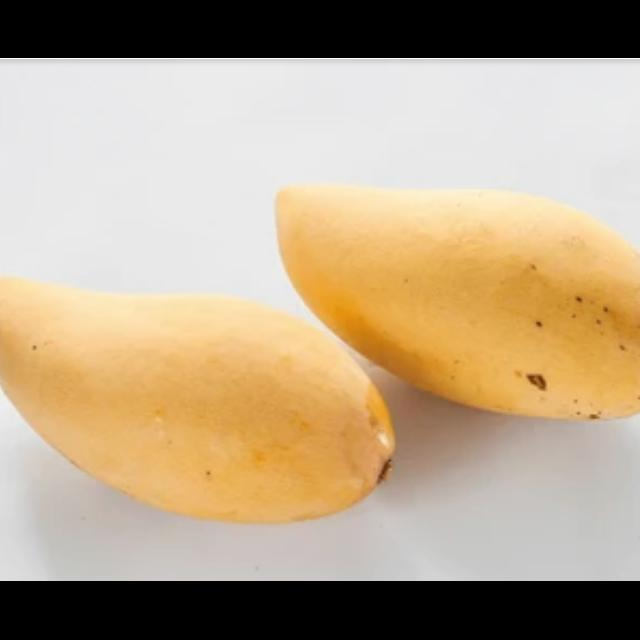mango: (0, 272, 396, 522), (272, 178, 640, 423)
